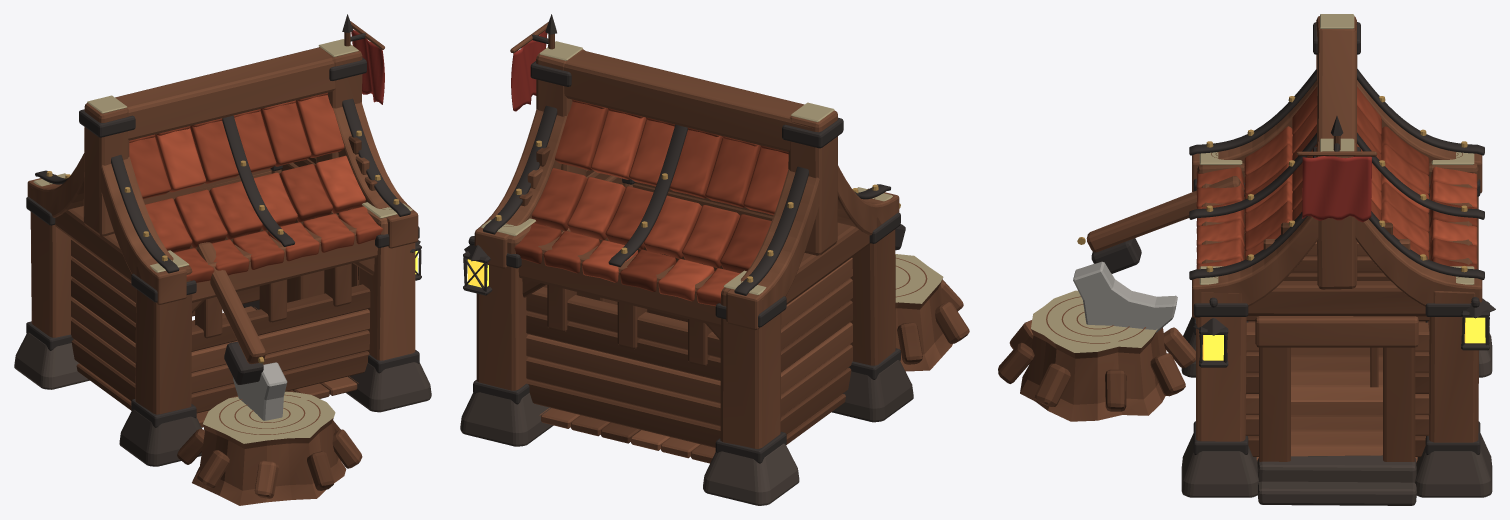
Rendered from source.glb.
The picture shows the model from 3 angles, left to right: view 1: azimuth 30°, elevation 25°; view 2: azimuth 150°, elevation 25°; view 3: azimuth 270°, elevation 25°; orthographic projection. The views are drawn at different scales.
Parts seen in each view (by area): view 1: Rootbound Hall · evaluated preview mesh; view 2: Rootbound Hall · evaluated preview mesh; view 3: Rootbound Hall · evaluated preview mesh.
Boxes of the visible parts, left/top/right/bottom form: Rootbound Hall · evaluated preview mesh: left=14, top=14, right=431, bottom=505; Rootbound Hall · evaluated preview mesh: left=460, top=14, right=969, bottom=505; Rootbound Hall · evaluated preview mesh: left=998, top=14, right=1495, bottom=505.
Size of the model in its own units: 5.02 by 5.56 by 6.65.
